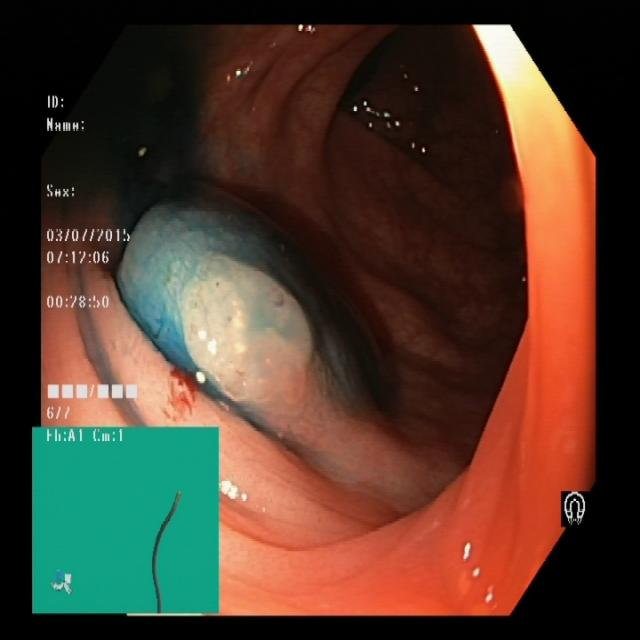diedpolyp: (121, 172, 346, 436)
location: (34, 425, 221, 612)
